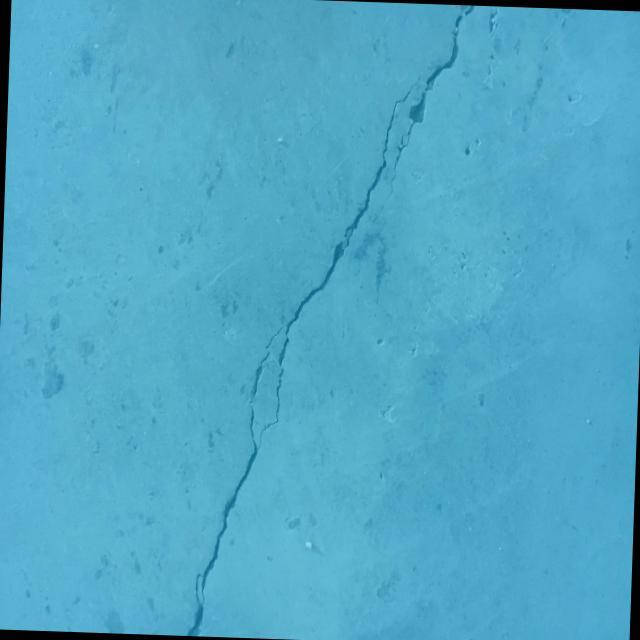crack: (184, 67, 421, 640), (380, 2, 474, 214)
